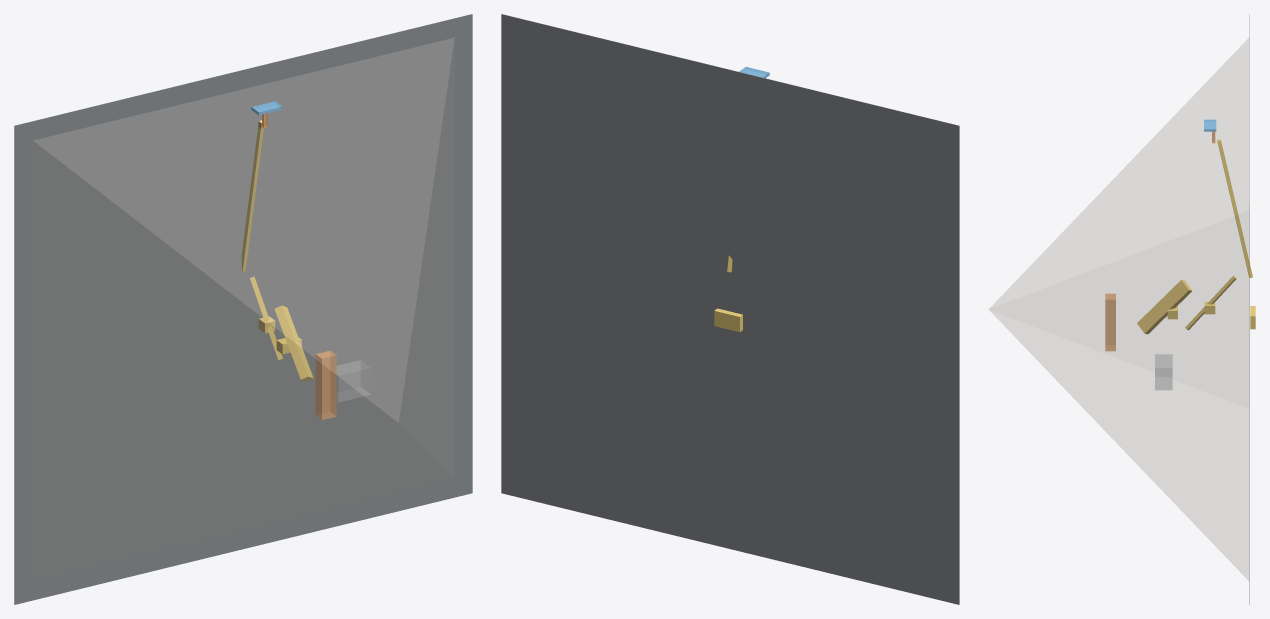
Rendered from khufu_pyramid_research_model_v1.glb.
3 views of the same model, side by side, from view 1: azimuth 30°, elevation 25°; view 2: azimuth 150°, elevation 25°; view 3: azimuth 270°, elevation 25° (orthographic). The views are drawn at different scales.
Visible parts, largest first — view 1: LAYER_REFERENCE|Ground reference plane, LAYER_OUTER|Outer pyramid envelope, LAYER_DETECTED|Big Void - detected region, approximate envel, LAYER_UNKNOWN|Unsurveyed region marker - NOT a chamber, LAYER_KNOWN|Grand Gallery - schematic, LAYER_KNOWN|Descending passage - schematic; view 2: LAYER_REFERENCE|Ground reference plane; view 3: LAYER_OUTER|Outer pyramid envelope, LAYER_KNOWN|Grand Gallery - schematic, LAYER_KNOWN|Descending passage - schematic, LAYER_DETECTED|Big Void - detected region, approximate envel, LAYER_UNKNOWN|Unsurveyed region marker - NOT a chamber, LAYER_REFERENCE|Ground reference plane.
Boxes of the visible parts, x1=… form: LAYER_REFERENCE|Ground reference plane: x1=14, y1=14, x2=472, y2=604; LAYER_OUTER|Outer pyramid envelope: x1=33, y1=38, x2=453, y2=580; LAYER_DETECTED|Big Void - detected region, approximate envel: x1=315, y1=350, x2=336, y2=419; LAYER_UNKNOWN|Unsurveyed region marker - NOT a chamber: x1=336, y1=360, x2=370, y2=402; LAYER_KNOWN|Grand Gallery - schematic: x1=274, y1=305, x2=313, y2=381; LAYER_KNOWN|Descending passage - schematic: x1=241, y1=120, x2=263, y2=272; LAYER_REFERENCE|Ground reference plane: x1=501, y1=14, x2=959, y2=604; LAYER_OUTER|Outer pyramid envelope: x1=989, y1=38, x2=1248, y2=580; LAYER_KNOWN|Grand Gallery - schematic: x1=1137, y1=279, x2=1192, y2=334; LAYER_KNOWN|Descending passage - schematic: x1=1217, y1=139, x2=1252, y2=278; LAYER_DETECTED|Big Void - detected region, approximate envel: x1=1105, y1=293, x2=1115, y2=351; LAYER_UNKNOWN|Unsurveyed region marker - NOT a chamber: x1=1155, y1=354, x2=1172, y2=389; LAYER_REFERENCE|Ground reference plane: x1=1249, y1=14, x2=1249, y2=604.
Bounding box in the file's own units: 250 × 250 × 150.
